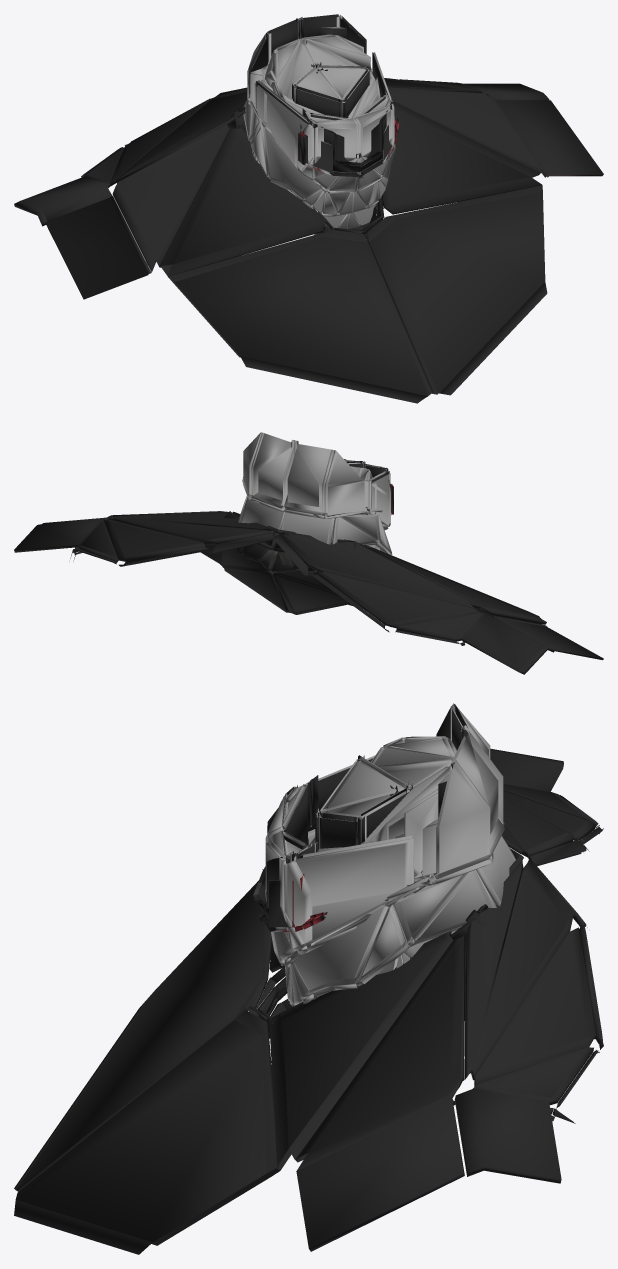
The model's file is helmetNeck1.glb.
The picture shows the model from 3 angles, top to bottom: view 1: azimuth 30°, elevation 25°; view 2: azimuth 150°, elevation 25°; view 3: azimuth 270°, elevation 25°; orthographic projection. The views are drawn at different scales.
Visible parts, largest first — view 1: Ultron 4; view 2: Ultron 4; view 3: Ultron 4.
Boxes of the visible parts, bbox=[...] form: Ultron 4: bbox=[14, 14, 603, 403]; Ultron 4: bbox=[14, 432, 603, 674]; Ultron 4: bbox=[14, 703, 603, 1254].
Bounding box in the file's own units: 58.53 × 30.6 × 34.44.
Materials: 1 (1 with a texture image).
